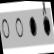correct: (28, 14, 38, 38)
no answer: (14, 15, 25, 39)
not correct: (39, 1, 52, 40)
